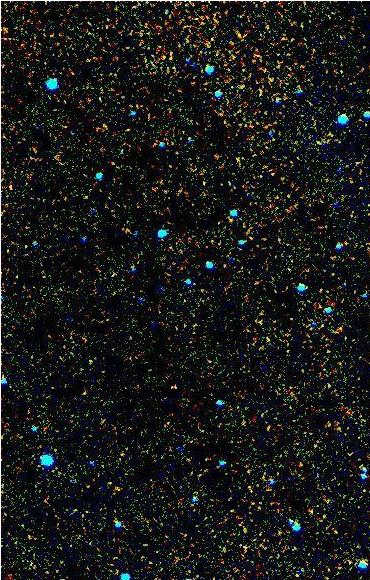star: (167, 371, 197, 401)
